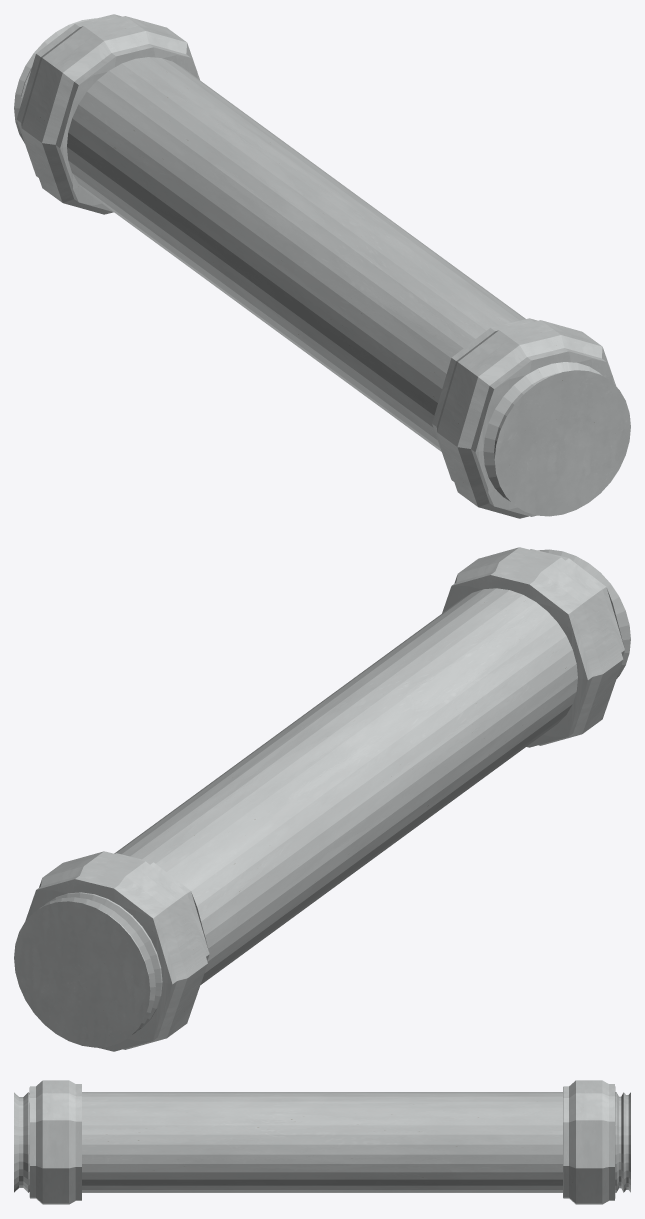
Rendered from playerModel0.glb.
The picture shows the model from 3 angles, top to bottom: view 1: azimuth 30°, elevation 25°; view 2: azimuth 150°, elevation 25°; view 3: azimuth 270°, elevation 25°; orthographic projection. The views are drawn at different scales.
Parts seen in each view (by area): view 1: Cylinder, Cube, Cube.001; view 2: Cylinder, Cube.001, Cube; view 3: Cylinder, Cube.001, Cube.
Boxes of the visible parts, left/top/right/bottom form: Cylinder: left=14, top=18, right=630, bottom=516; Cube: left=432, top=318, right=615, bottom=518; Cube.001: left=16, top=14, right=199, bottom=214; Cylinder: left=14, top=549, right=630, bottom=1047; Cube.001: left=25, top=851, right=209, bottom=1051; Cube: left=442, top=547, right=624, bottom=747; Cylinder: left=14, top=1092, right=630, bottom=1192; Cube.001: left=563, top=1080, right=615, bottom=1204; Cube: left=29, top=1080, right=81, bottom=1204.
Bounding box in the file's own units: 2.44 × 2.44 × 12.22.
Materials: 1 (1 with a texture image).
